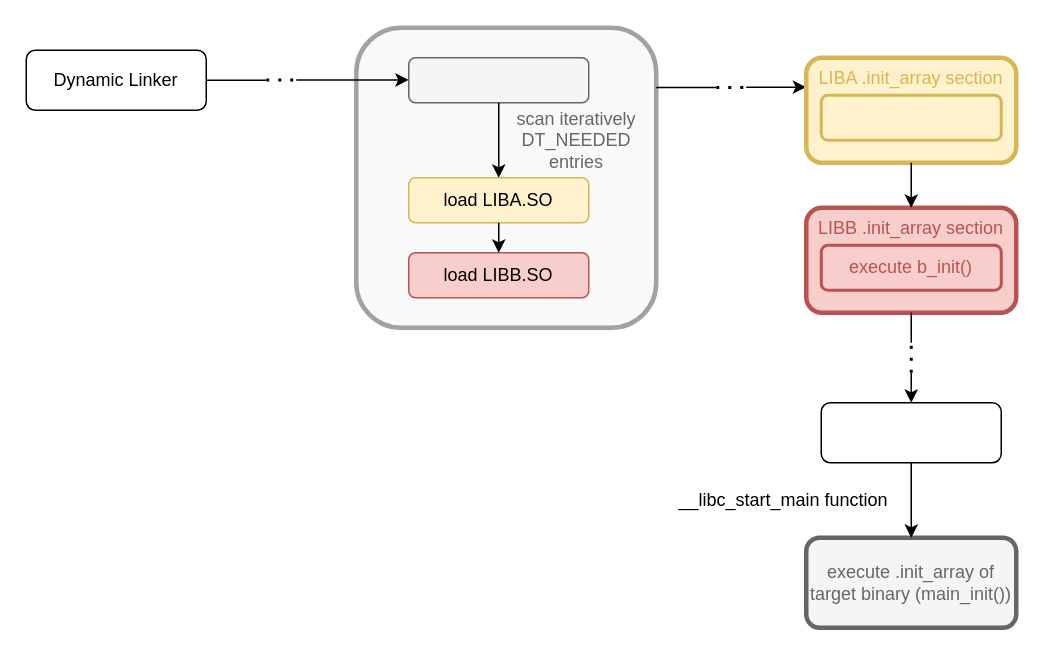
The diagram is 1044 pixels wide and 656 high, and some of its shapes have lost their labels. The shapes that lost their labels are listed below. From the top down, each one's centre as x and y in pixels, then its label:
At point (498, 79): "loads dependencies of target binary".
At point (910, 117): "execute a_init()".
At point (910, 432): "Dynamic Linker ends here".
